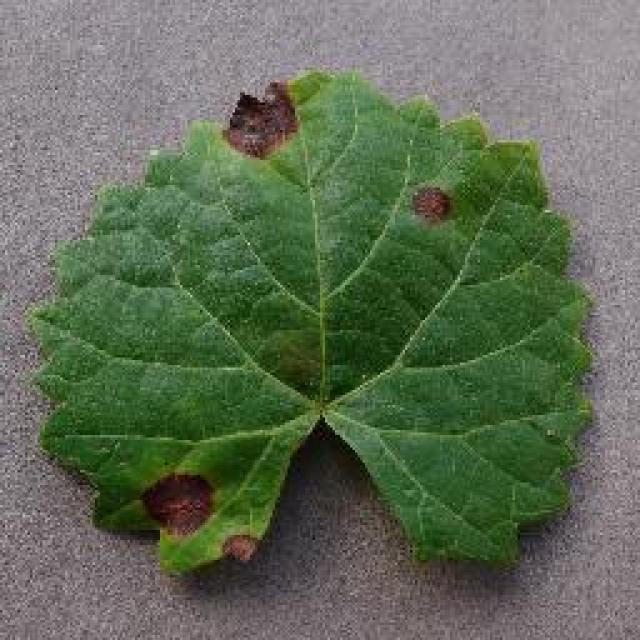Grape___Black_rot: (16, 64, 598, 582)
